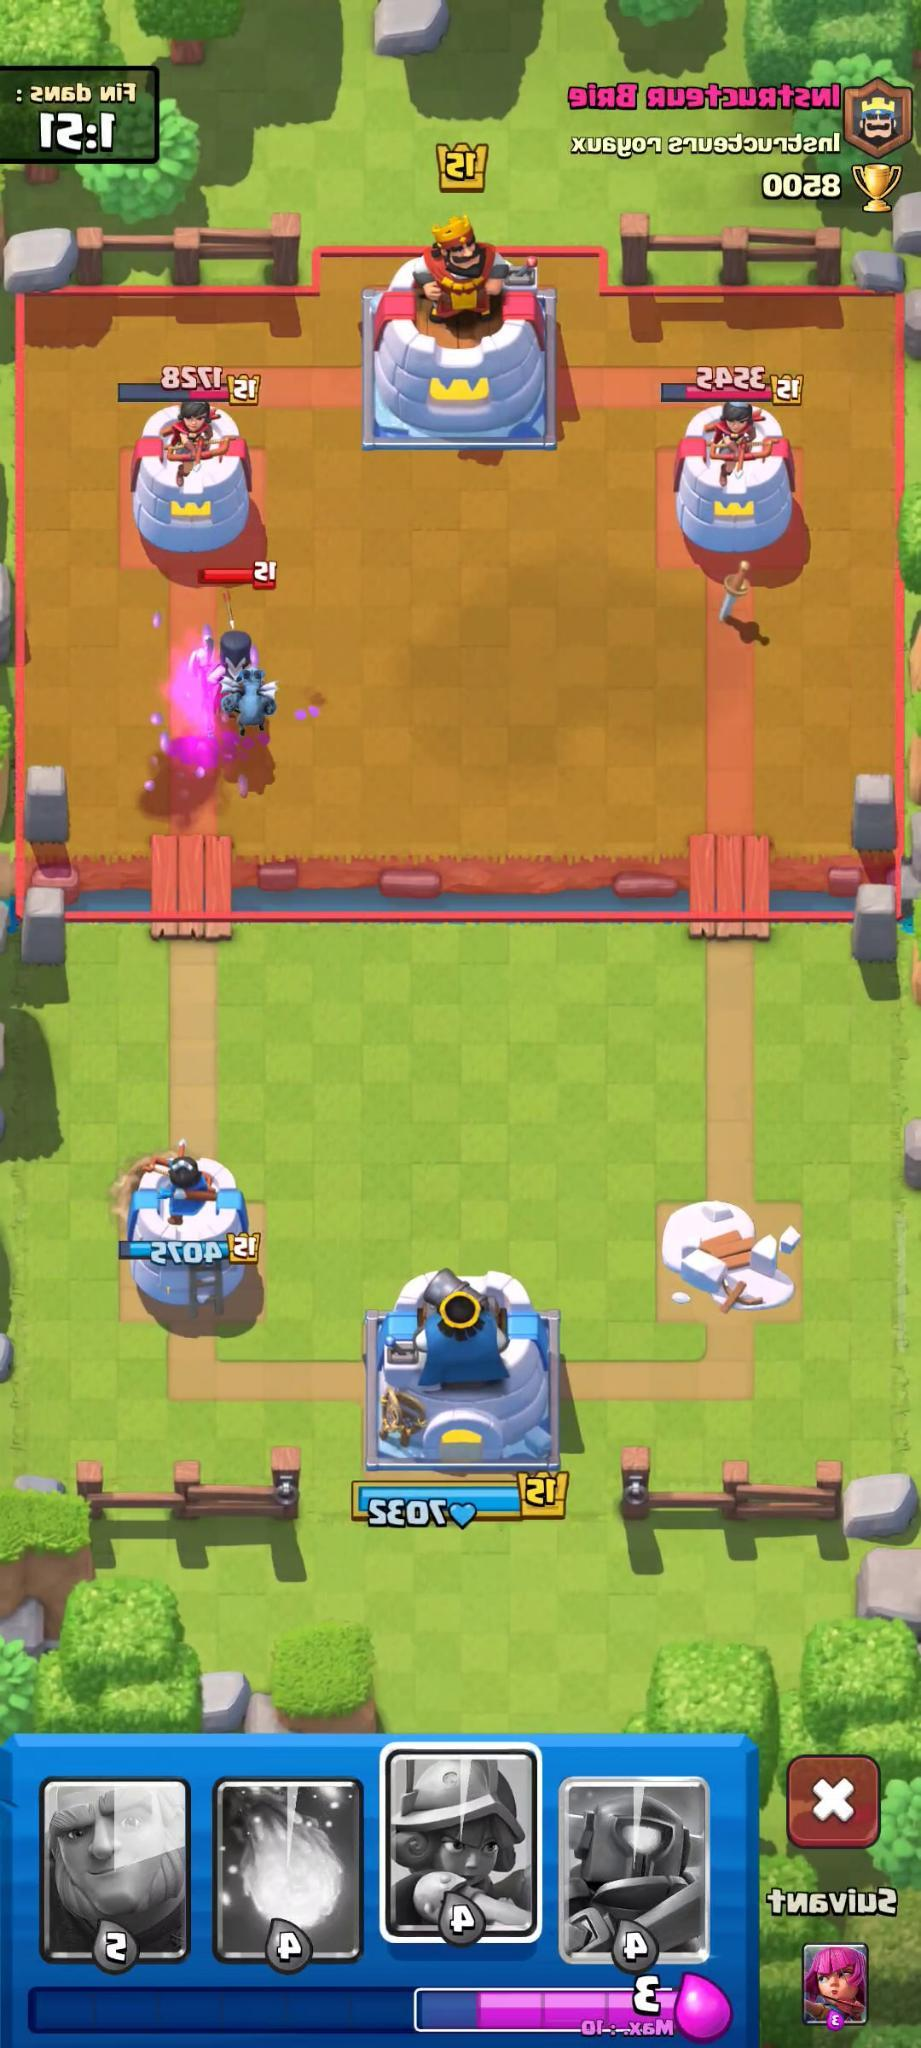enemy_night_witch: (185, 612, 276, 736)
player_minions: (218, 668, 286, 748)
